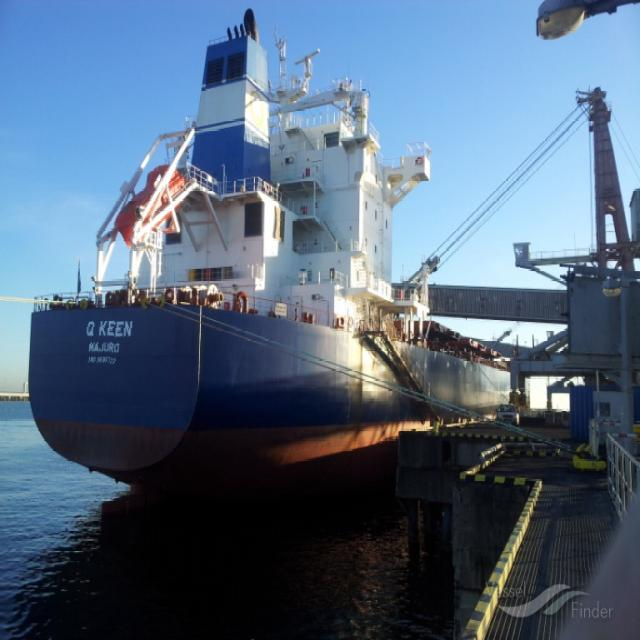OCR: (81, 314, 143, 372)
